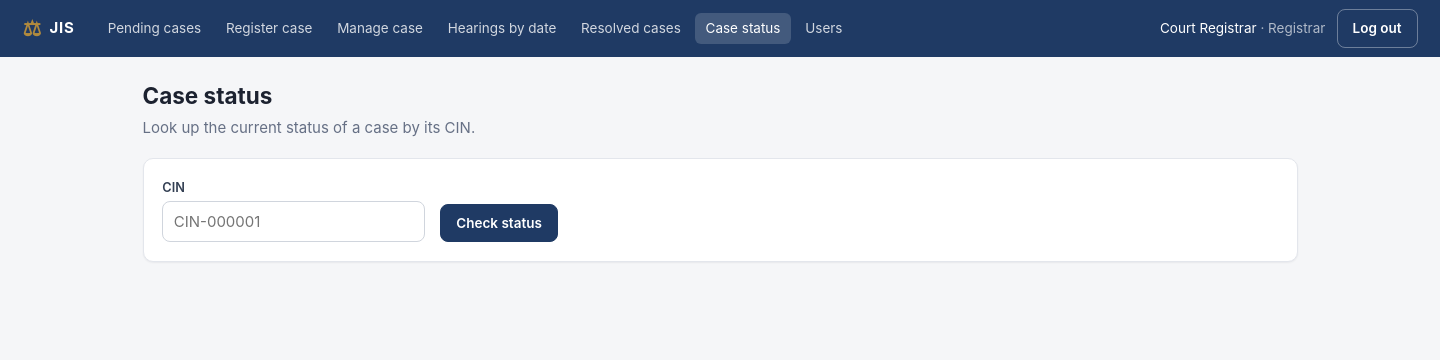
Test: registrar queries › status by CIN
The width and height of the screenshot is (1440, 360).
Type "cin-000001" into the field labelled "CIN" at (294, 222), box top-left (162, 201), bottom-right (425, 242)
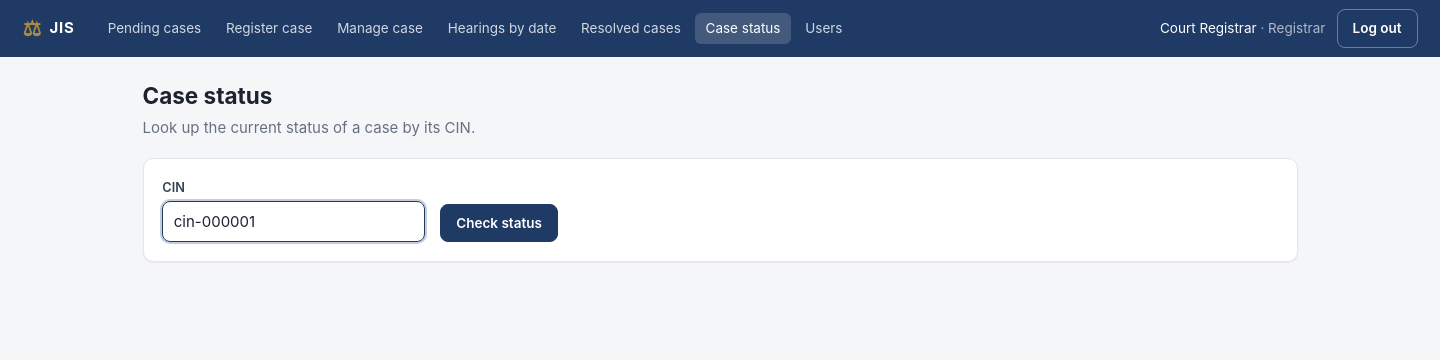
Click the button "Check status" at (499, 223), box top-left (440, 204), bottom-right (558, 242)
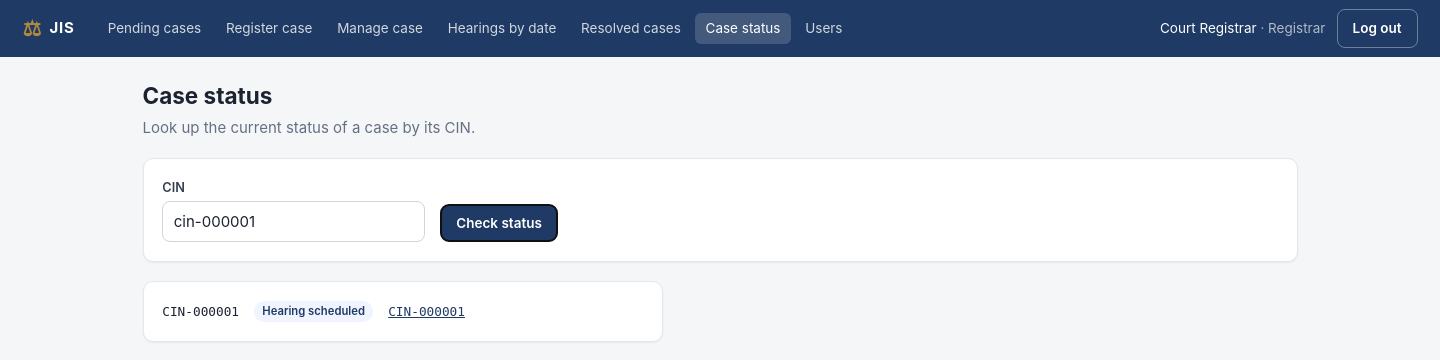
expect the text "Hearing scheduled" is shown: met, box top-left (254, 301), bottom-right (373, 322)
